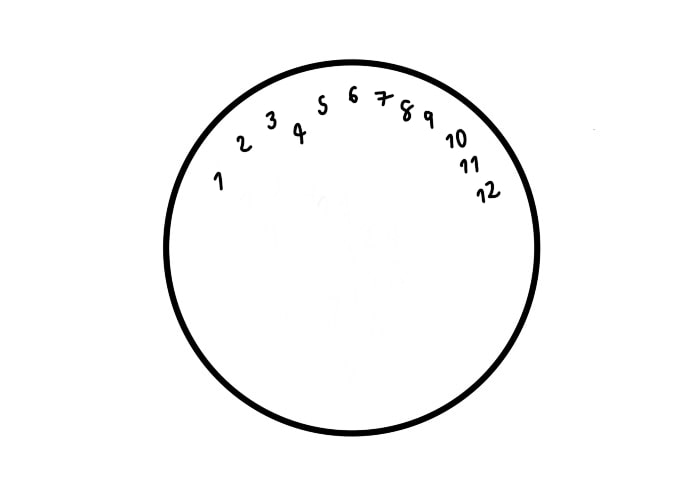eight: (399, 97, 414, 125)
eleven: (459, 153, 481, 177)
five: (316, 91, 330, 117)
four: (292, 118, 307, 146)
nine: (422, 107, 438, 133)
one: (212, 167, 226, 194)
seven: (373, 86, 395, 110)
six: (347, 83, 361, 105)
ten: (445, 128, 467, 150)
three: (266, 109, 279, 132)
twelve: (474, 177, 501, 205)
two: (231, 128, 256, 160)
